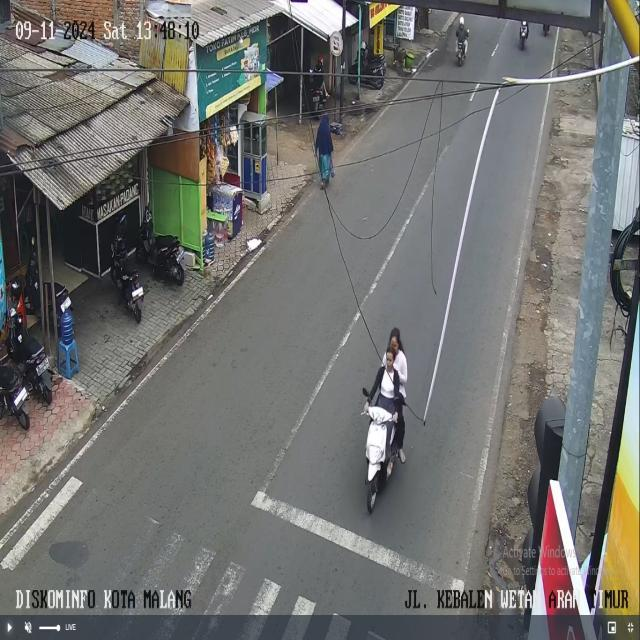Helmet: (459, 16, 463, 25)
Number Plate: (14, 387, 27, 408), (36, 357, 48, 375), (60, 296, 70, 311), (132, 287, 143, 299), (312, 96, 319, 102)
